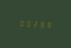eight: (39, 20, 45, 28), (46, 20, 52, 28)
two: (32, 19, 38, 28)
zero: (18, 19, 24, 27), (25, 19, 31, 27)
